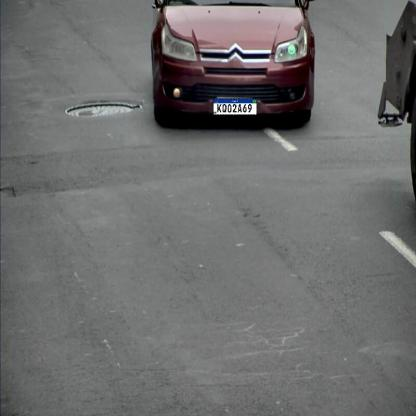PlacaM: (213, 99, 257, 115)
